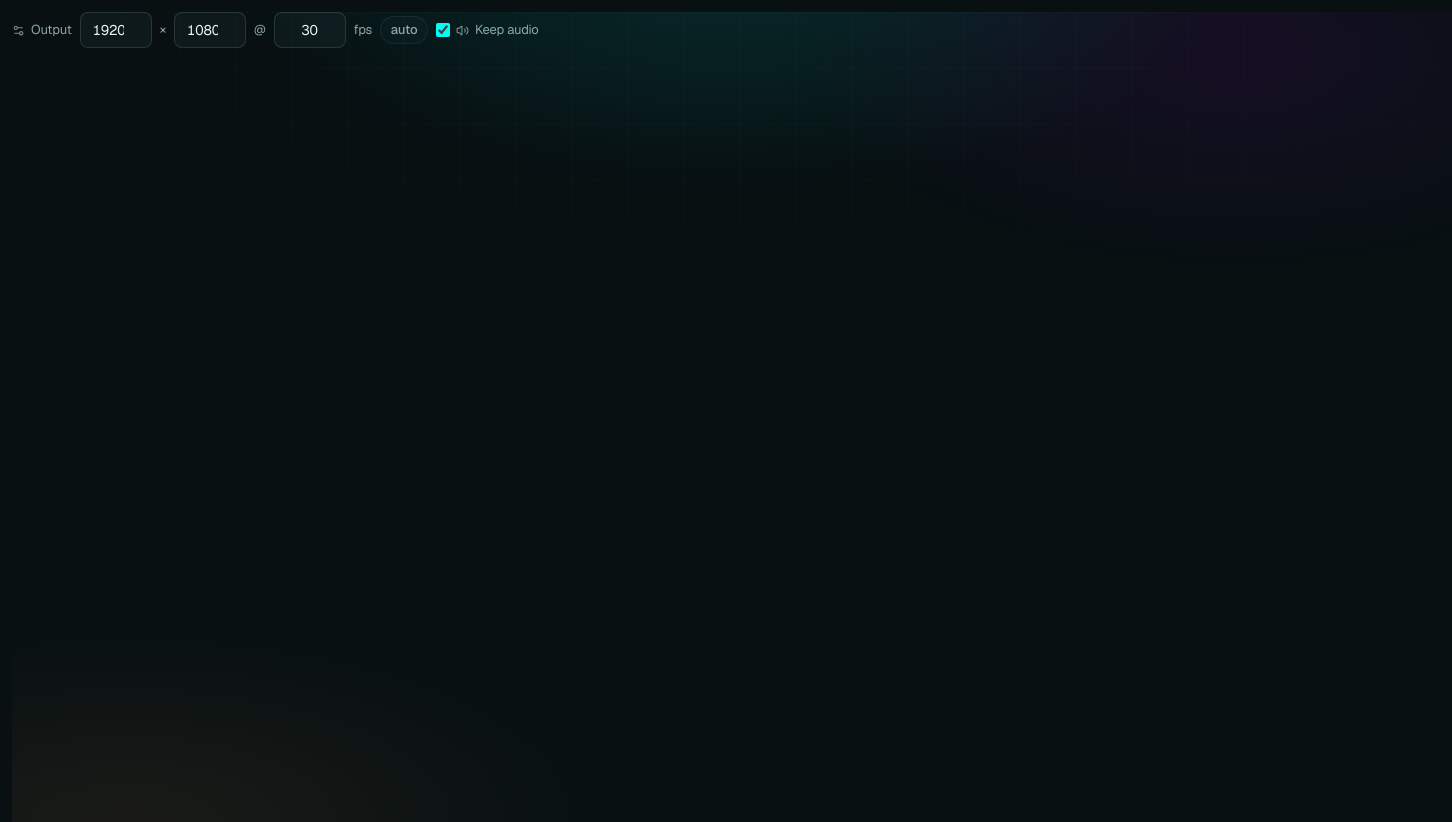
Test: TimelineOutputFormat › treats an emptied field as a slip: reverts it and does not freeze the format
Clear the number field named "Output width" at (116, 30), box [80,12,152,48]
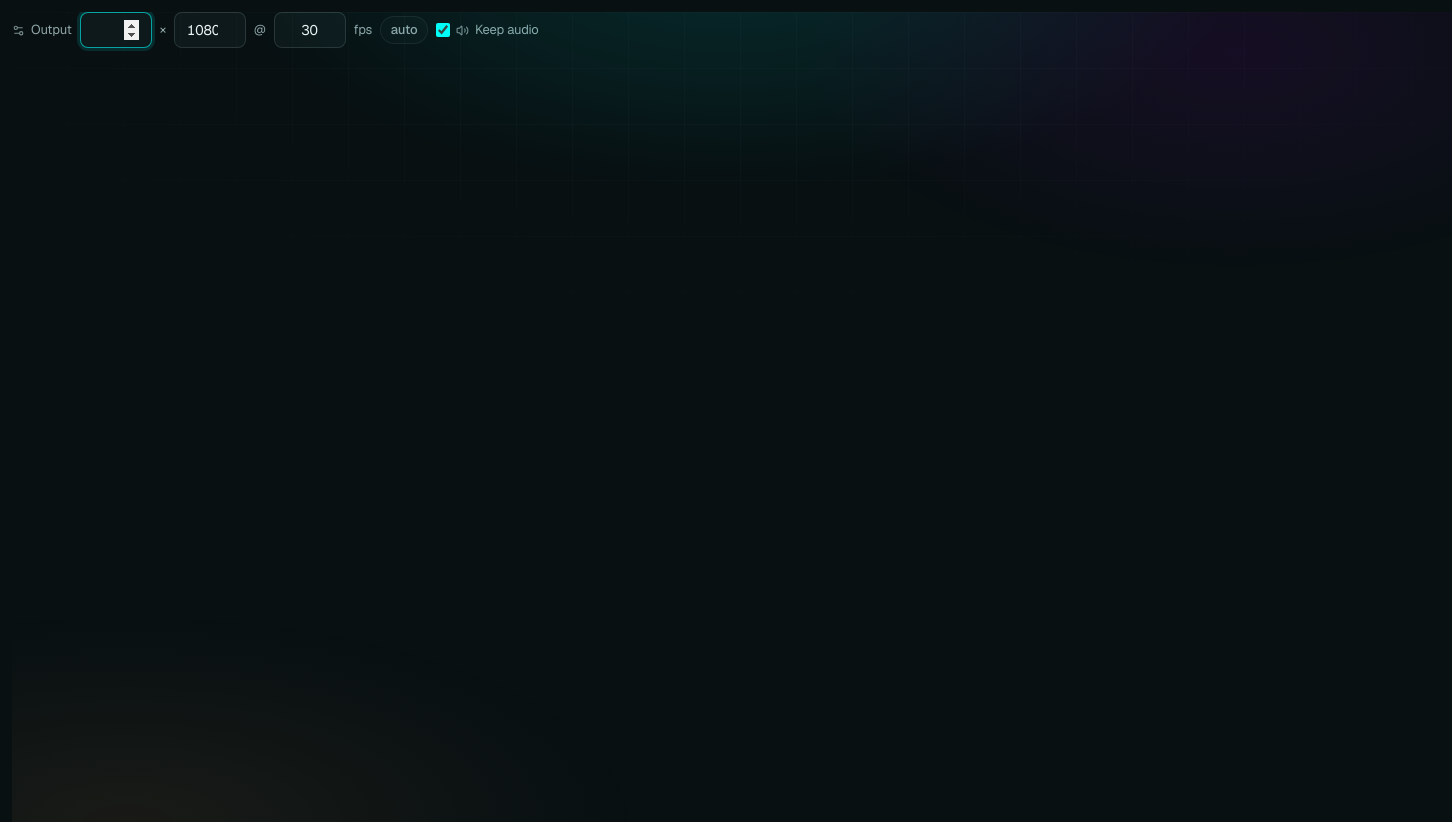
Press Tab
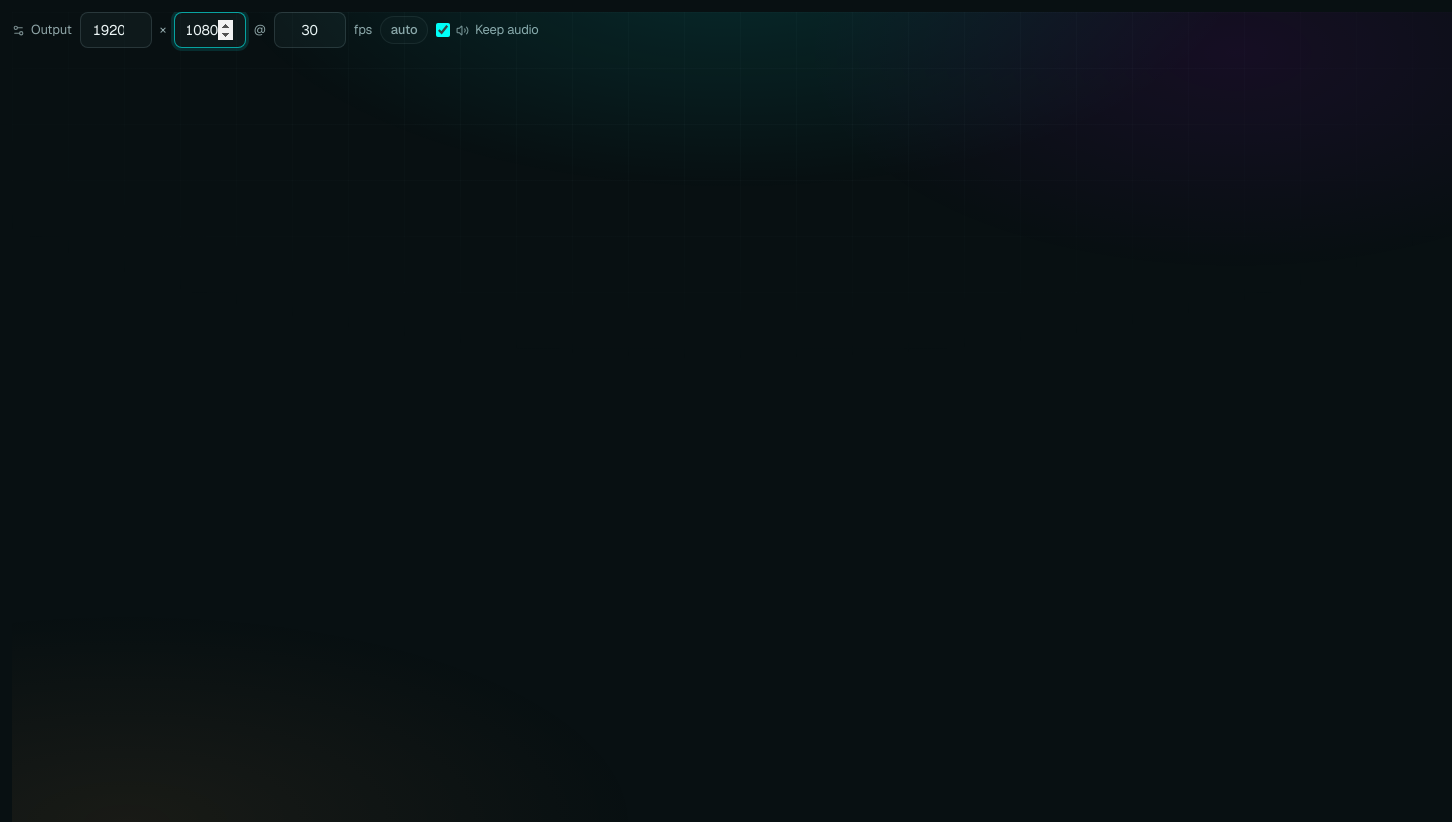
Result: the number field named "Output width" holds "1920" at [80,12,152,48]
